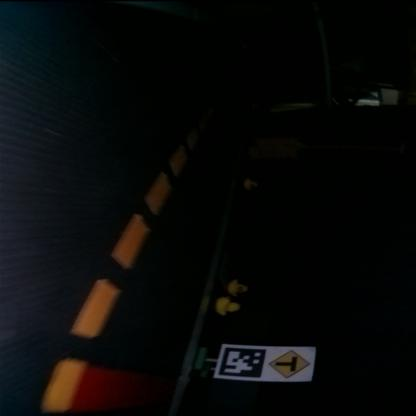Duckie: (217, 298, 239, 316), (229, 280, 249, 295), (244, 179, 258, 190)
Intersection sign: (268, 347, 314, 380)
QR code: (218, 345, 266, 378)
